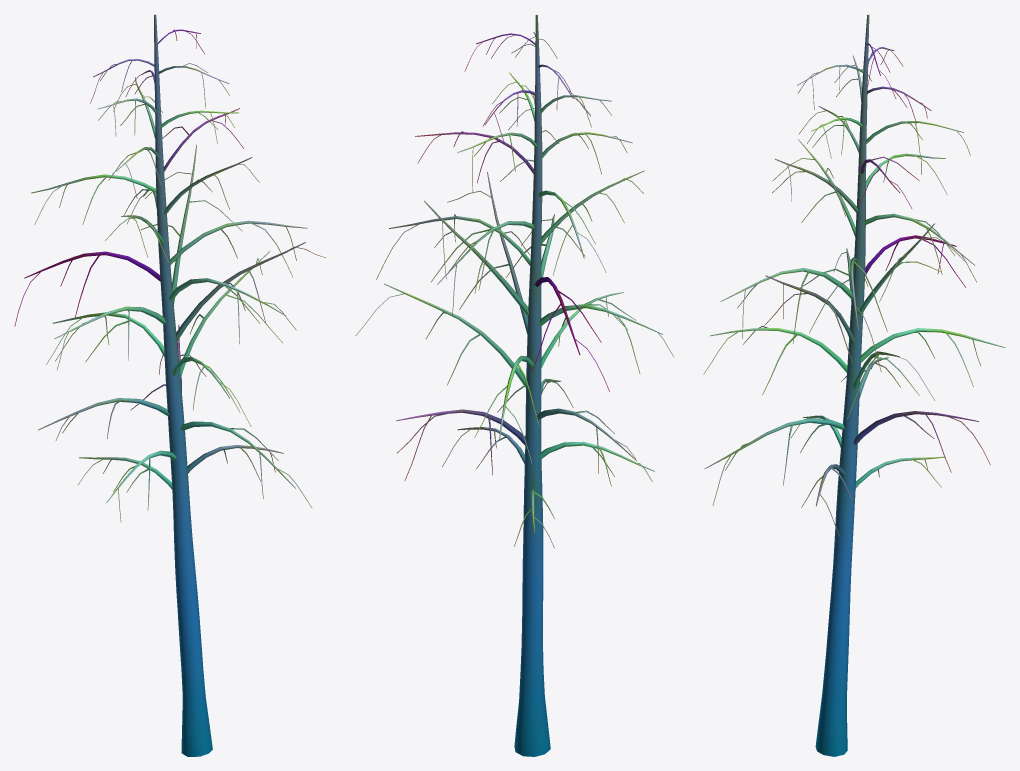
File: birch-grove-a.glb
The picture shows the model from 3 angles, left to right: view 1: azimuth 30°, elevation 25°; view 2: azimuth 150°, elevation 25°; view 3: azimuth 270°, elevation 25°; orthographic projection. The views are drawn at different scales.
Visible parts, largest first — view 1: bark; view 2: bark; view 3: bark.
Part boxes in pixels (<box>): bark: <box>14,14,325,756</box>; bark: <box>355,15,674,756</box>; bark: <box>703,14,1005,756</box>.
Size of the model in its own units: 5.23 by 13.79 by 5.21.
